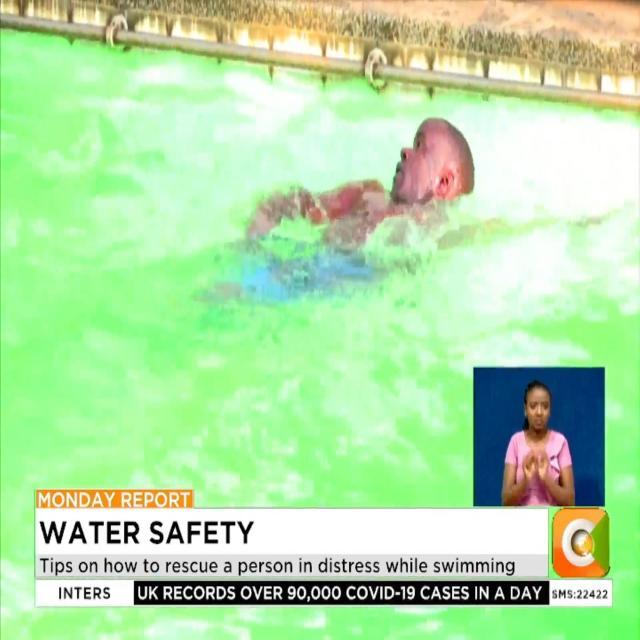swimming: (216, 99, 512, 313)
